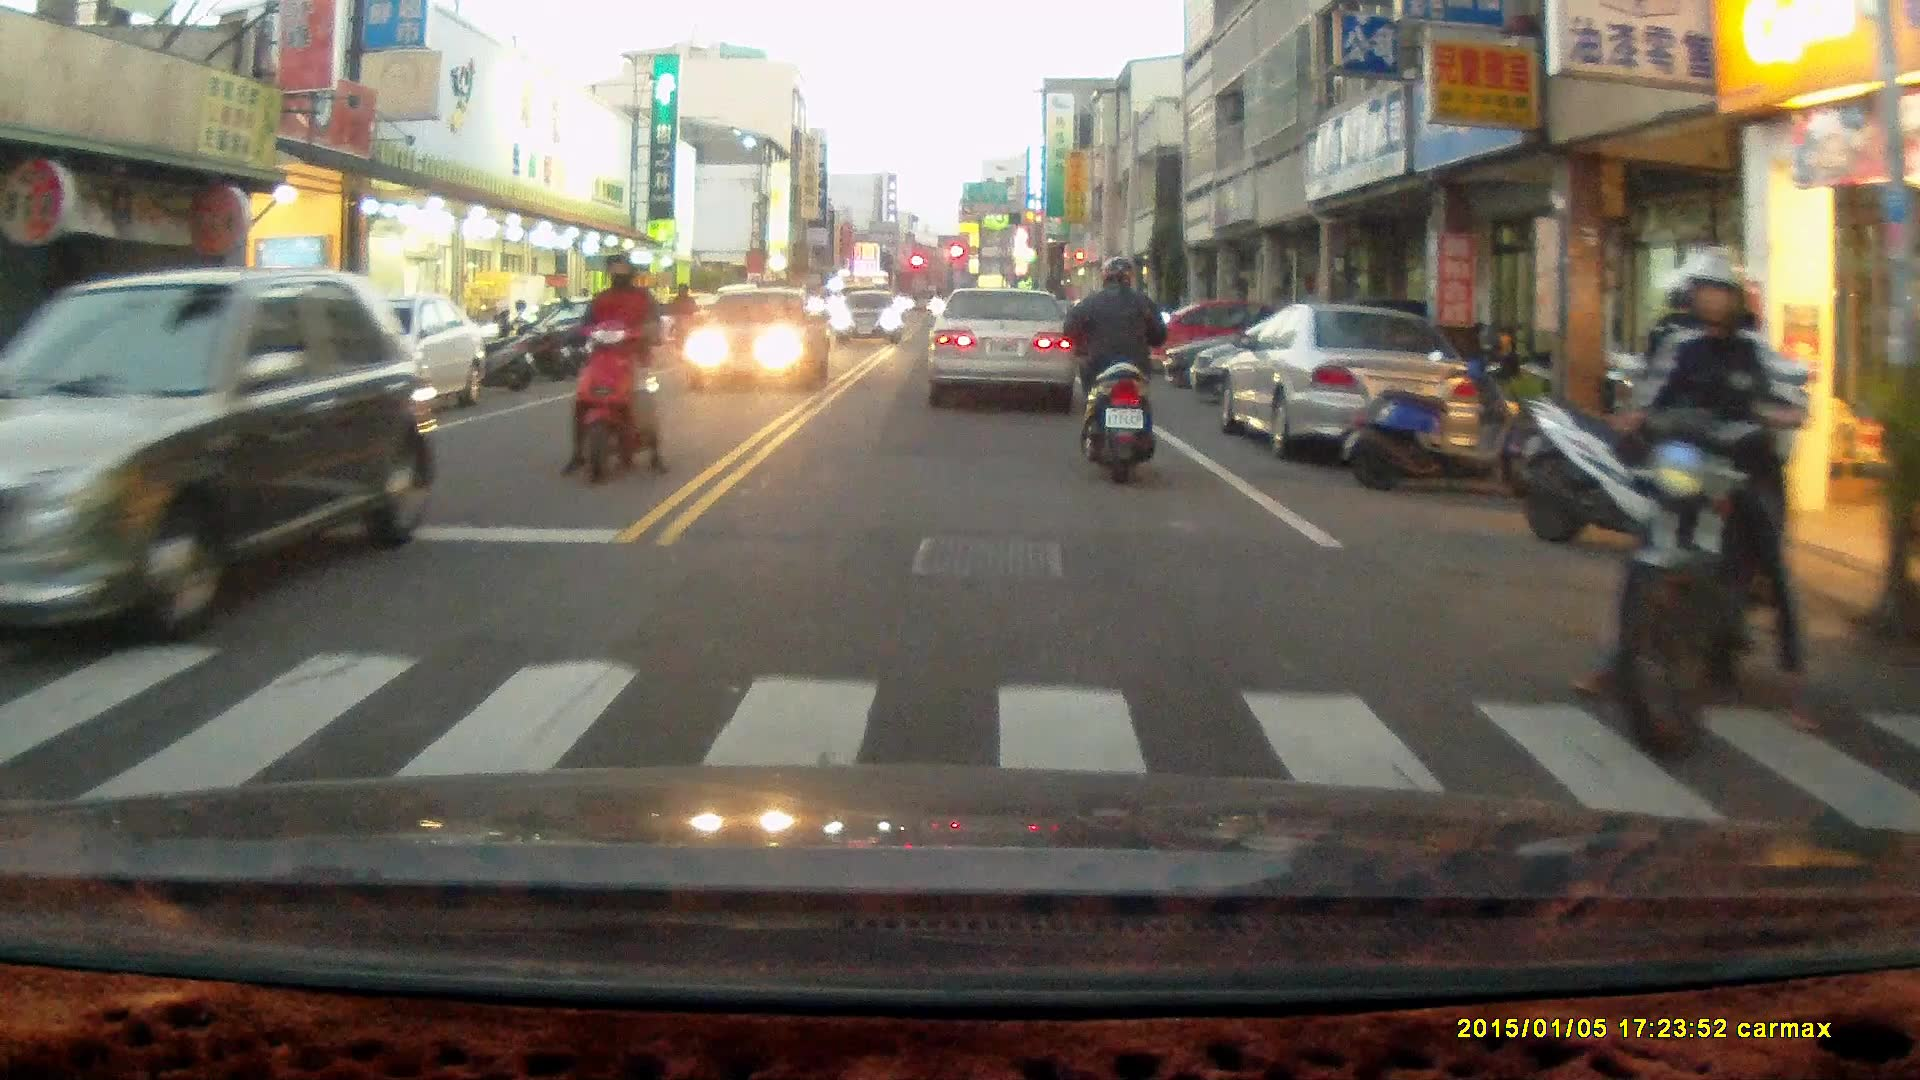pedestrian: (665, 282, 694, 356)
rider: (1576, 254, 1832, 767), (560, 246, 672, 486), (1066, 252, 1175, 482)
vehicle: (1, 268, 444, 647), (1221, 304, 1478, 465), (246, 282, 486, 436), (928, 288, 1082, 401), (683, 284, 832, 388), (829, 291, 906, 347)
